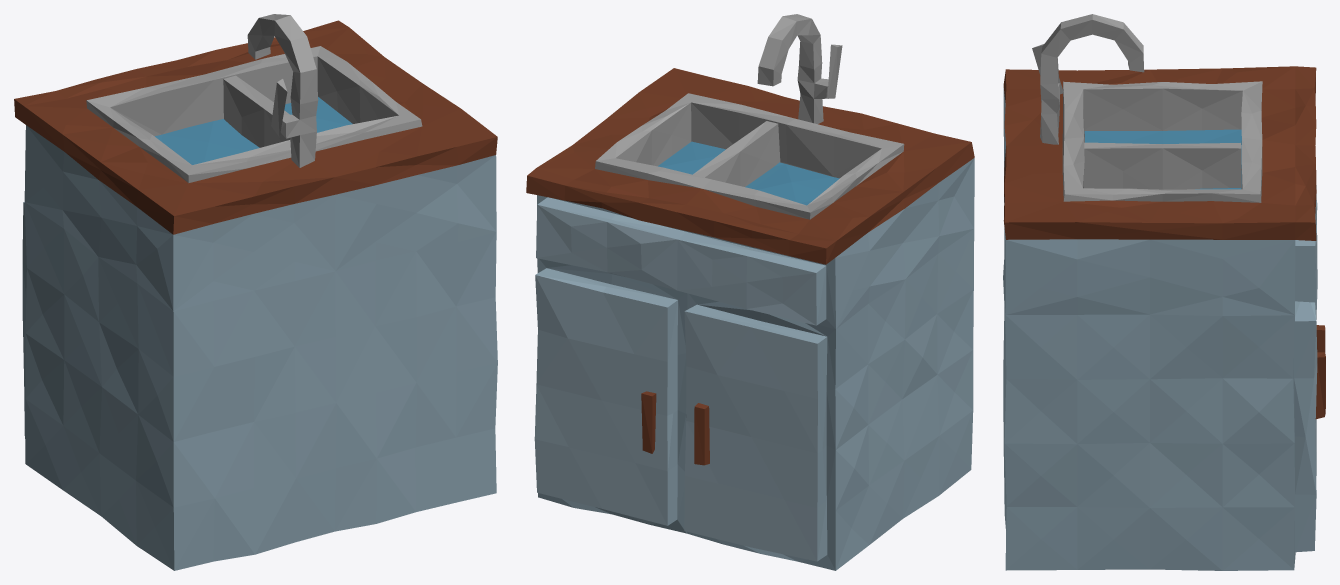
The model's file is kitchen_sink.fbx.
3 views of the same model, side by side, from view 1: azimuth 30°, elevation 25°; view 2: azimuth 150°, elevation 25°; view 3: azimuth 270°, elevation 25° (orthographic). The views are drawn at different scales.
Parts seen in each view (by area): view 1: kitchen_sink; view 2: kitchen_sink; view 3: kitchen_sink.
Part boxes in pixels (bbox=[...]): kitchen_sink: bbox=[14, 14, 497, 570]; kitchen_sink: bbox=[526, 14, 974, 570]; kitchen_sink: bbox=[1003, 14, 1325, 570].
Size of the model in its own units: 78.57 by 112 by 68.75.
